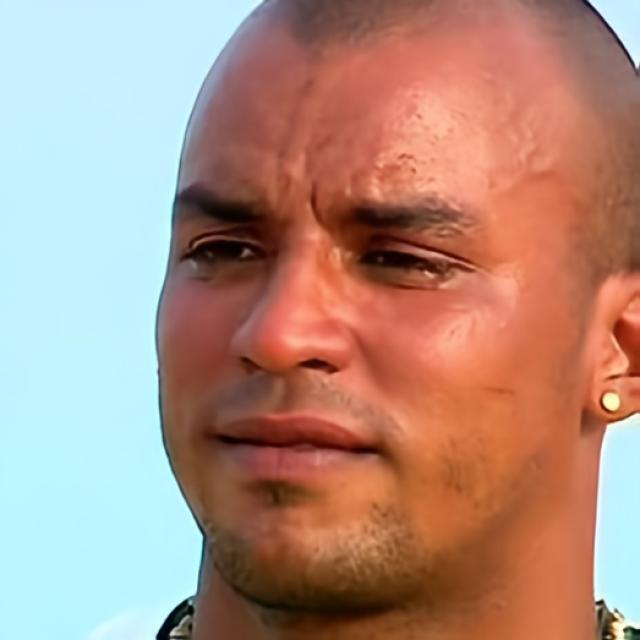sad: (150, 28, 585, 622)
